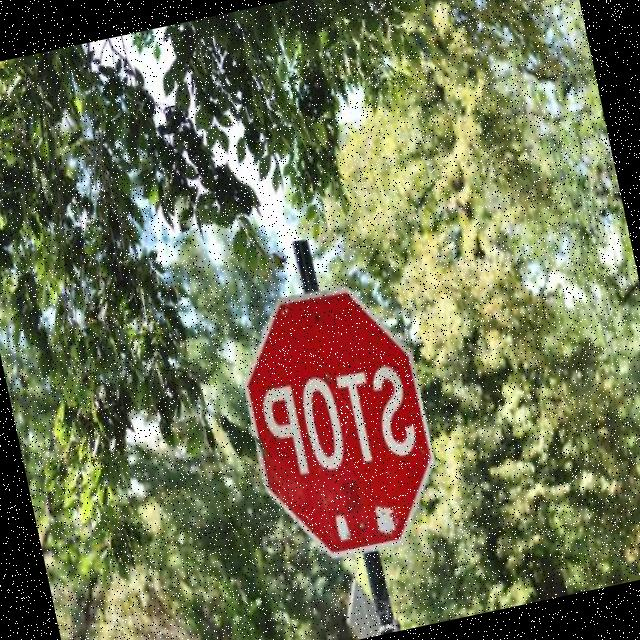stop: (218, 262, 459, 577)
